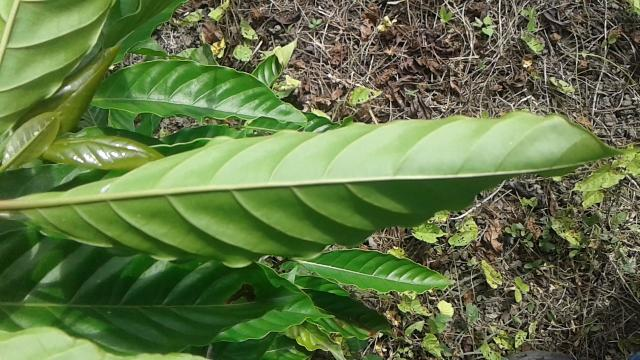healthy: (6, 112, 640, 268)
